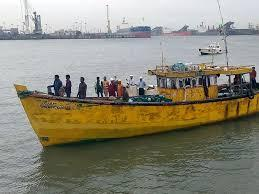fishing boat: (11, 49, 259, 149), (198, 38, 226, 56)
